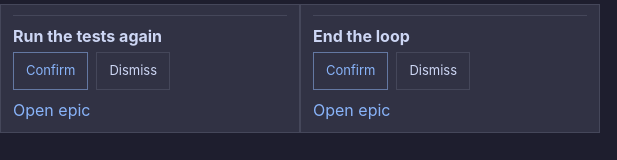
Test: FactoryControlCard › removes superseded confirmation buttons after another change is confirmed
The width and height of the screenshot is (617, 160).
Step 1. Click the button "Confirm" below "End the loop" → [351, 71], box [313,52,388,90]
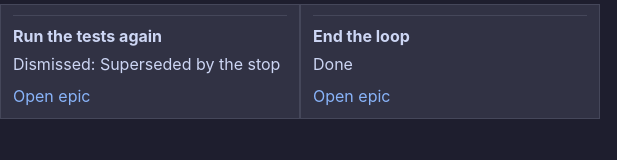
Result: the text "Dismissed: Superseded by the stop" is shown at [13,52,287,76]
Result: the button "Confirm" is gone
